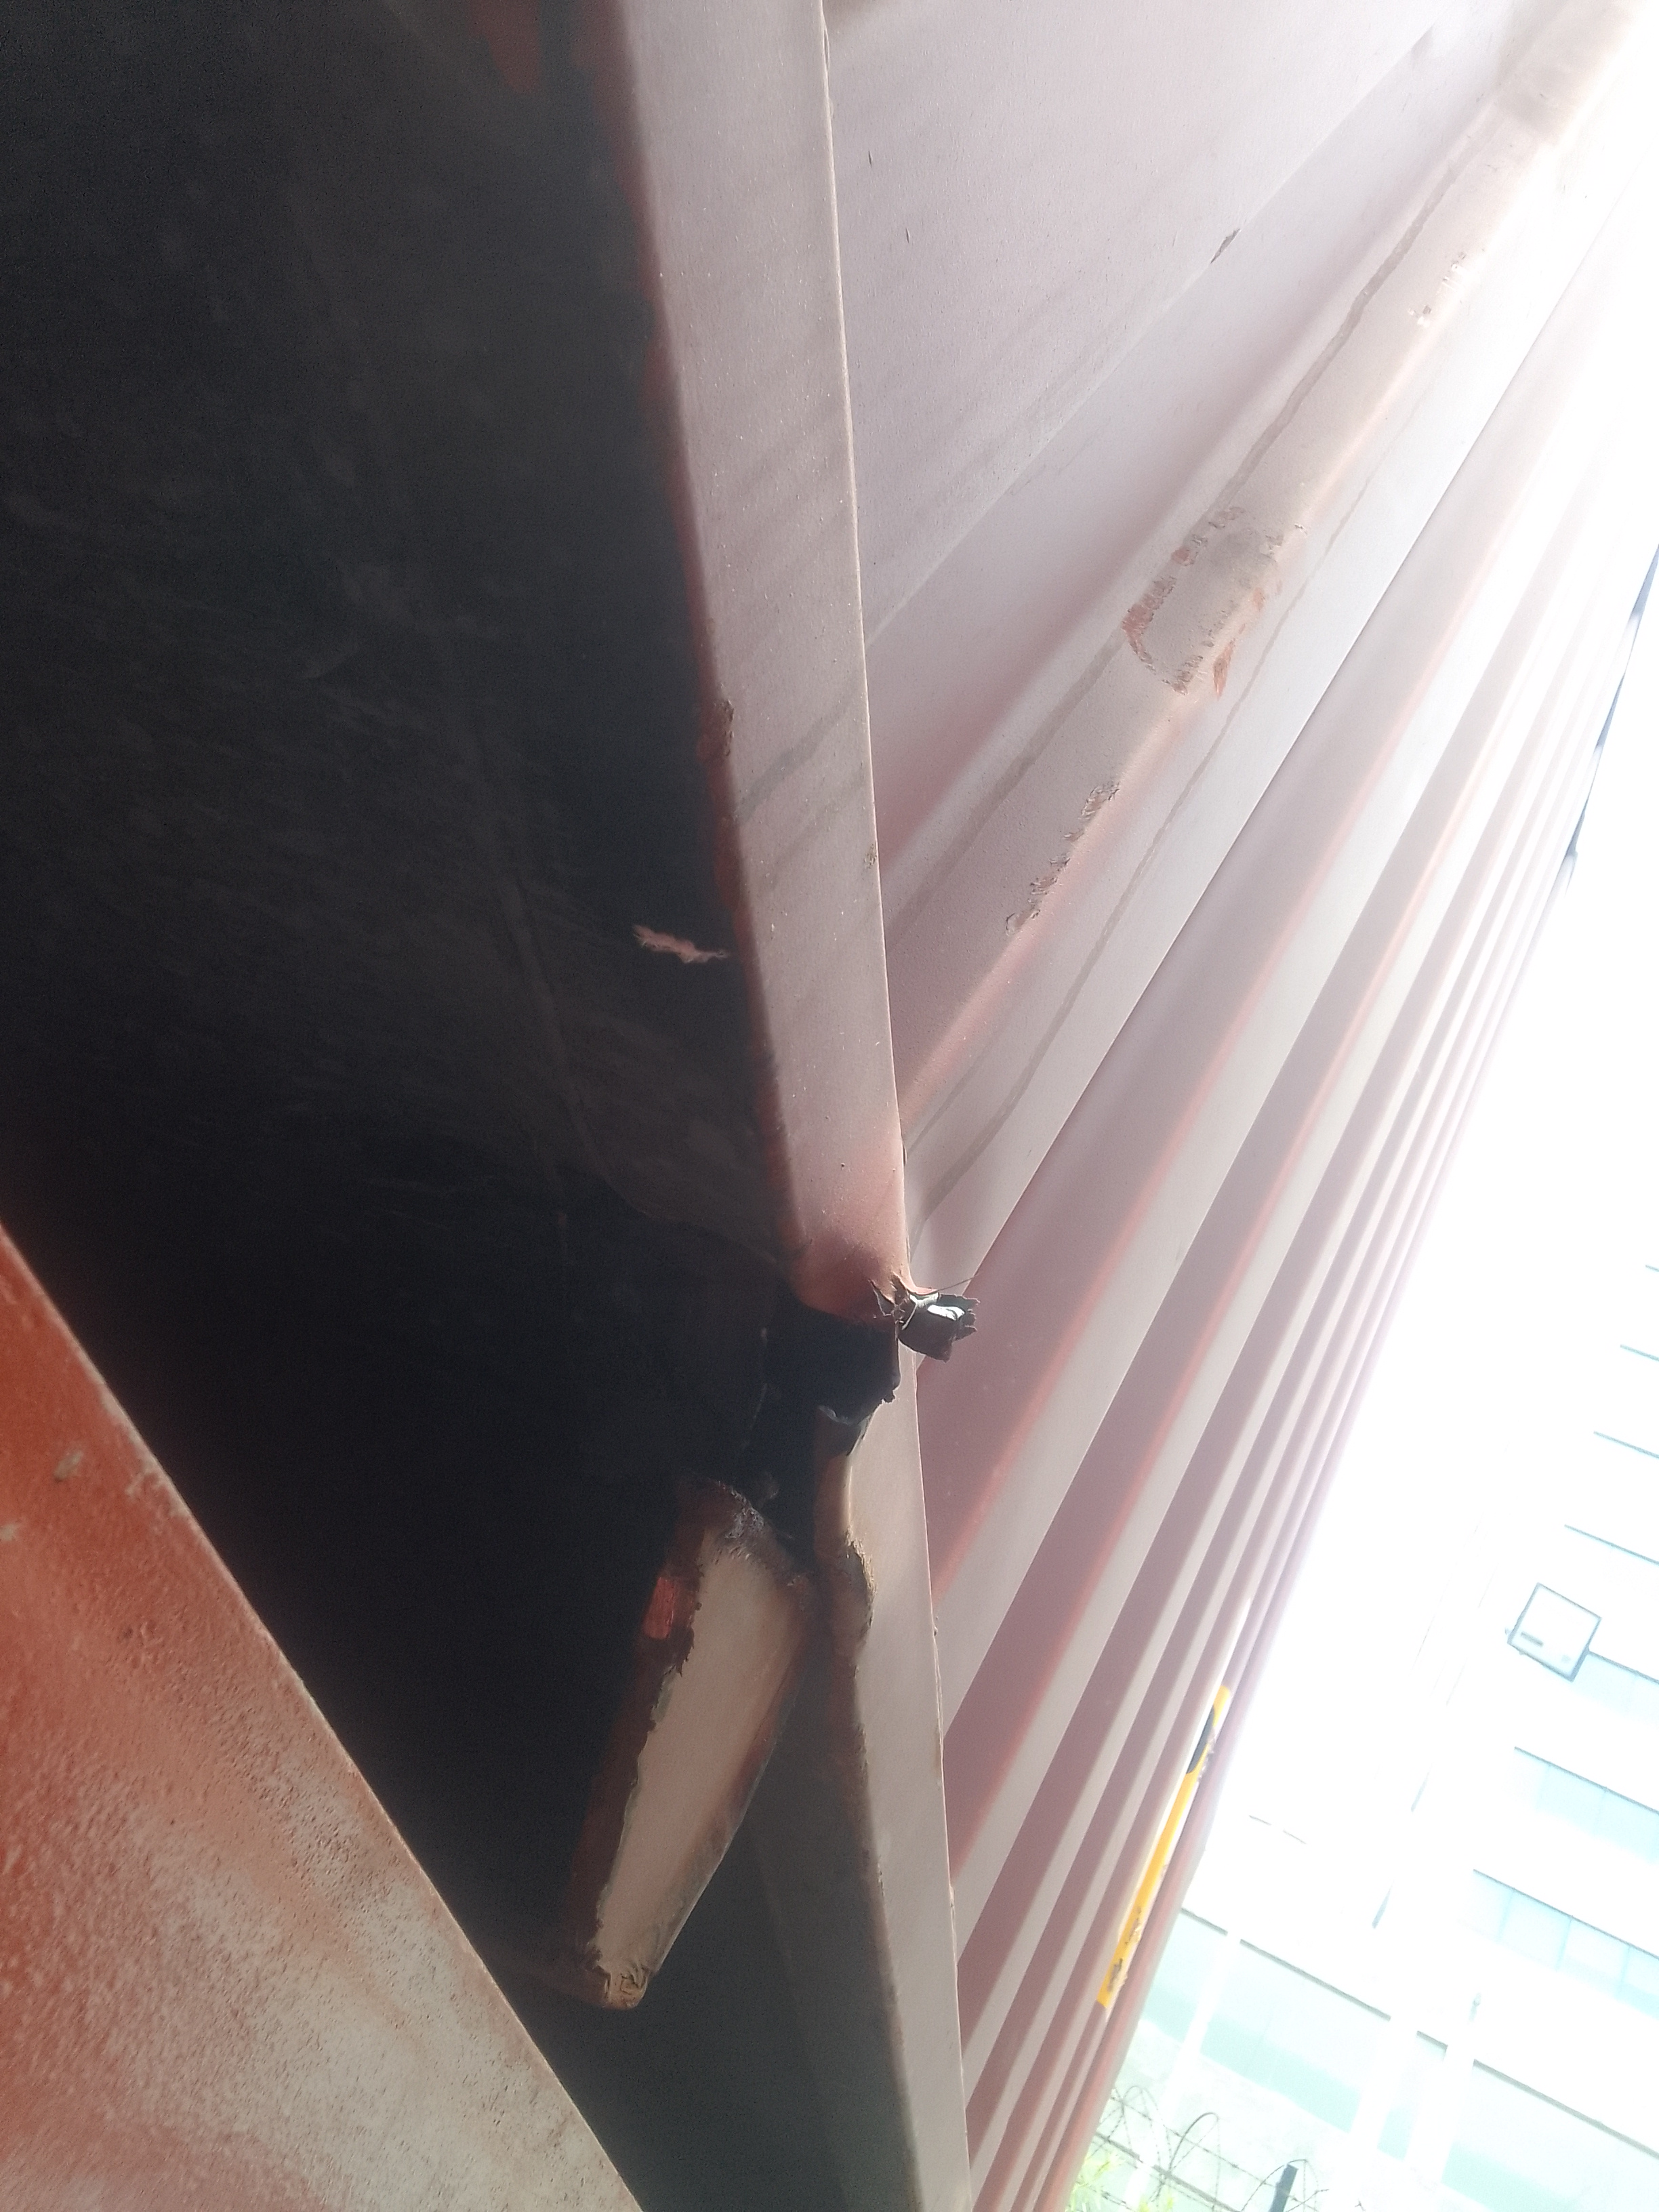severe: (812, 1169, 1033, 1522)
